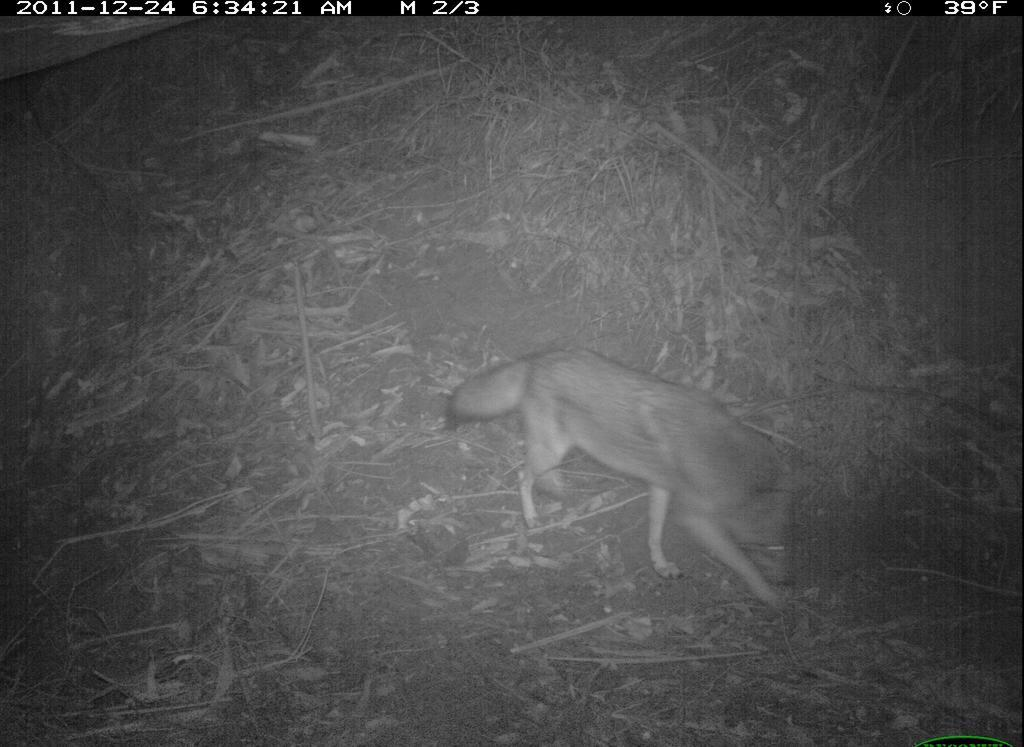coyote: (443, 338, 811, 617)
